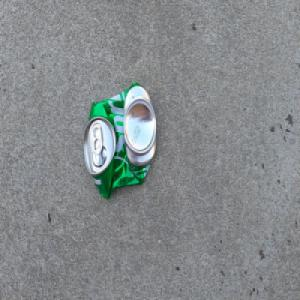SodaCan: (82, 80, 157, 200)
